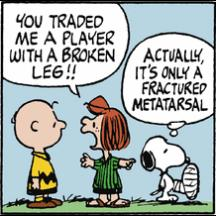charlie: (10, 96, 70, 210)
snoopy: (139, 133, 199, 203)
